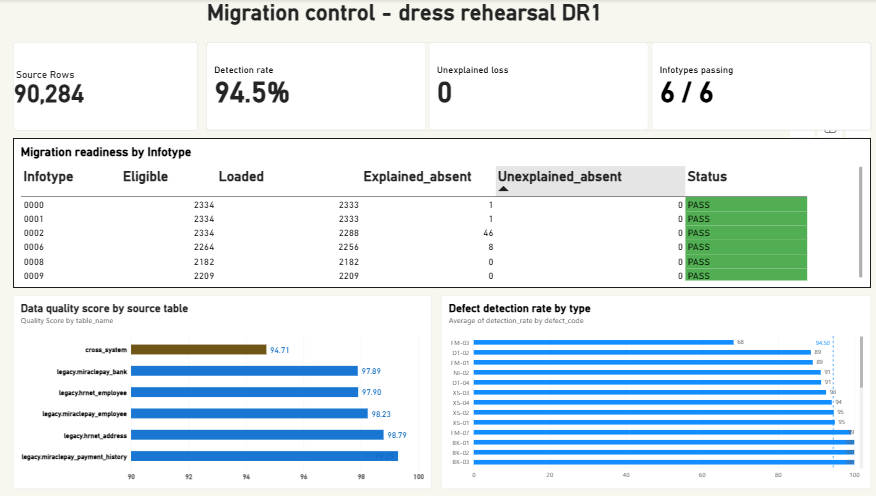

Layout of this report page (visuals, bound fields, positions):
{"tool":"powerbi","page":{"name":"Control","canvas":[1920,1080],"ordinal":0},"visuals":[{"type":"tableEx","title":"Migration readiness by Infotype","fields":{"Values":["recon recon_record_counts.infotype","recon recon_record_counts.eligible","recon recon_record_counts.loaded","recon recon_record_counts.explained_absent","recon recon_record_counts.unexplained_absent","recon recon_record_counts.status"]},"box":[33,301.4,1860.1,326.2],"z":0},{"type":"clusteredBarChart","title":"Data quality score by source table","fields":{"Category":["profiling table_scores.table_name"],"Y":["Avg(profiling table_scores.weighted_score)"]},"box":[33,642.1,908.4,421.2],"z":1000},{"type":"clusteredBarChart","title":"Defect detection rate by type","fields":{"Category":["profiling detection_scores.defect_code"],"Y":["Avg(profiling detection_scores.detection_rate)"]},"box":[960,642.1,933.2,421.2],"z":2000},{"type":"cardVisual","fields":{"Data":["profiling detection_scores.Detection rate","profiling detection_scores.Unexplained loss","profiling detection_scores.Infotypes passing"]},"box":[450.1,92.9,1443.1,192],"z":3000},{"type":"textbox","box":[33,92.9,400.5,192],"z":4000},{"type":"textbox","box":[454.2,0,949.7,74.3],"z":4001}]}

Visuals, with their boxes in screenshot pixels (x1, y1, x2, y2), scaled from the page's 1920x1080 canvas onto the 876x496 screenshot:
"Migration readiness by Infotype" tableEx: <box>15,138,864,288</box>
"Data quality score by source table" clusteredBarChart: <box>15,295,430,488</box>
"Defect detection rate by type" clusteredBarChart: <box>438,295,864,488</box>
cardVisual - profiling detection_scores.Detection rate x profiling detection_scores.Unexplained loss: <box>205,43,864,131</box>
textbox: <box>15,43,198,131</box>
textbox: <box>207,0,641,34</box>
